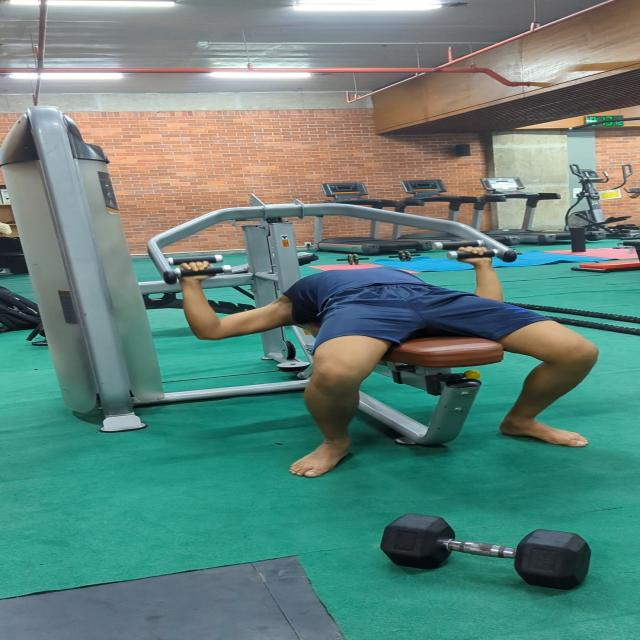Normal_BrenchPress: (140, 238, 640, 468)
